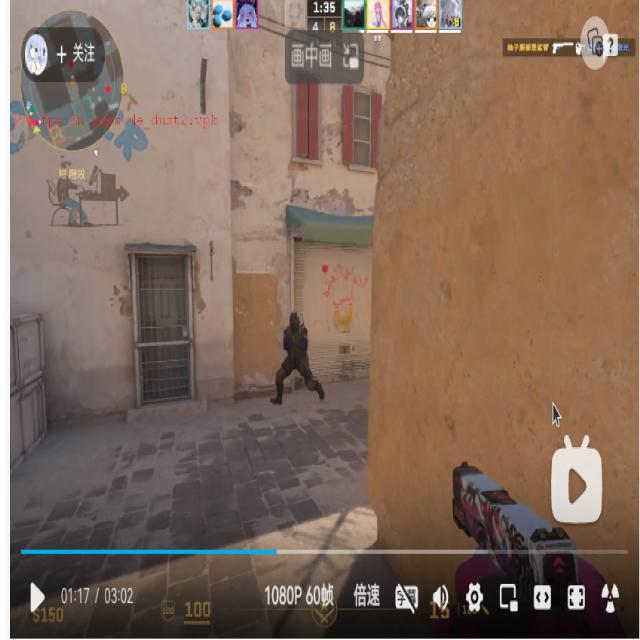person: (270, 312, 326, 405)
